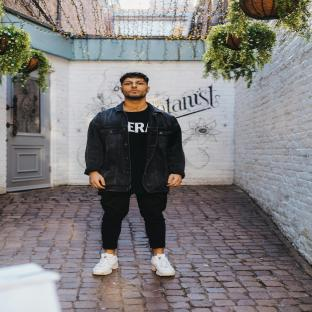Human: (85, 72, 185, 276)
